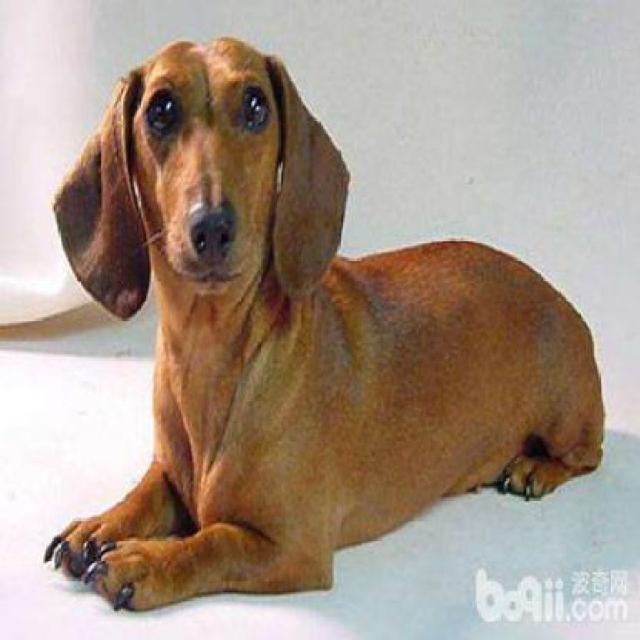Dog: (37, 36, 609, 564)
